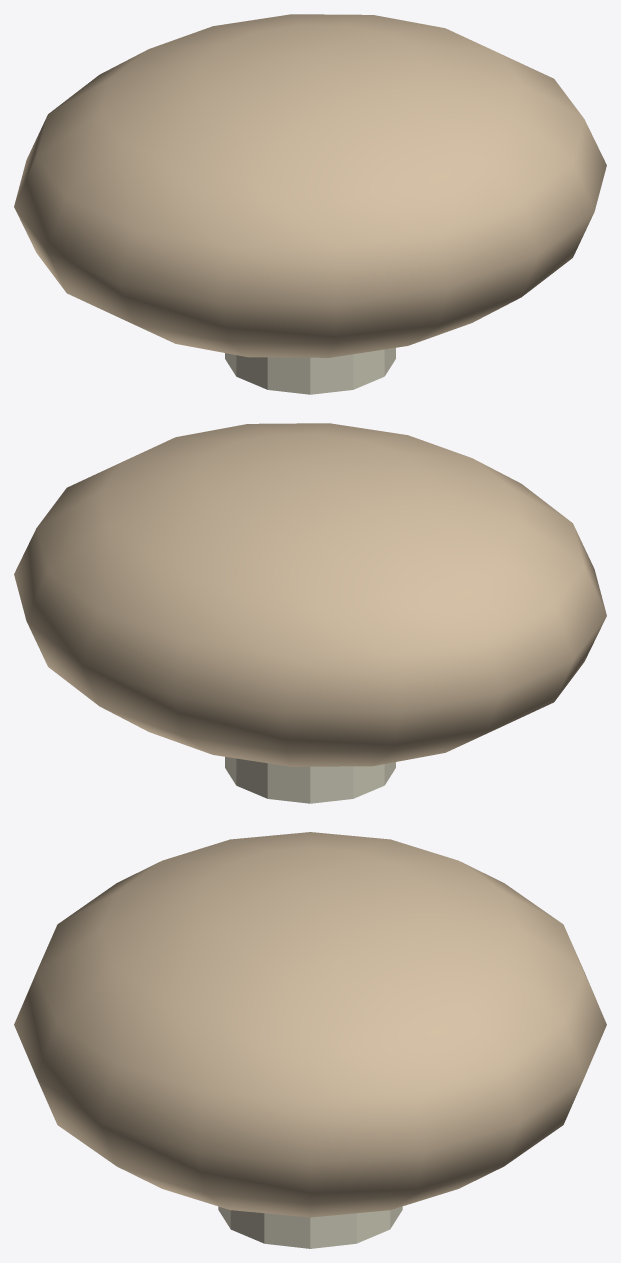
The model's file is mushroom.glb.
The picture shows the model from 3 angles, top to bottom: view 1: azimuth 30°, elevation 25°; view 2: azimuth 150°, elevation 25°; view 3: azimuth 270°, elevation 25°; orthographic projection. The views are drawn at different scales.
Visible parts, largest first — view 1: Cap.002, Stem.002; view 2: Cap.002, Stem.002; view 3: Cap.002, Stem.002.
Boxes of the visible parts, x1,y1,x2,y2 form: Cap.002: (14, 14, 606, 357); Stem.002: (225, 348, 395, 394); Cap.002: (14, 423, 606, 766); Stem.002: (225, 757, 395, 803); Cap.002: (14, 832, 606, 1217); Stem.002: (218, 1206, 402, 1248).
Size of the model in its own units: 0.128 by 0.069 by 0.116.
